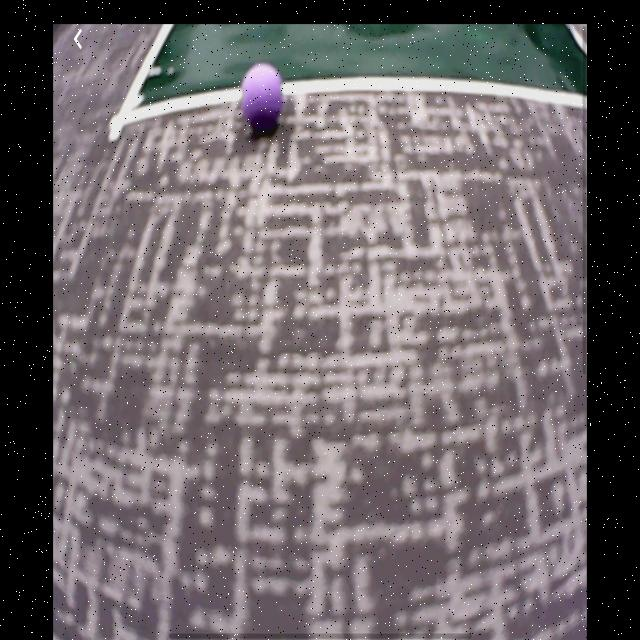ball: (242, 62, 285, 129)
